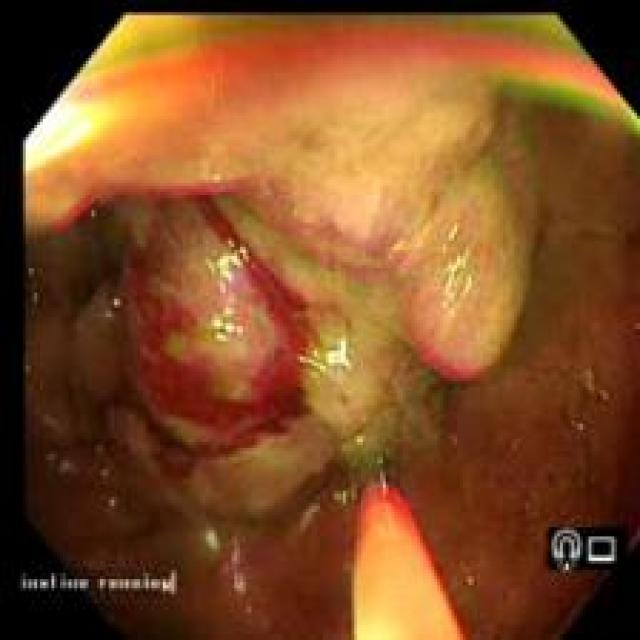blood: (128, 200, 324, 459)
color misalignment: (44, 174, 487, 385), (59, 16, 640, 132), (425, 87, 549, 343), (25, 575, 178, 596), (205, 530, 255, 588), (554, 532, 618, 575), (334, 488, 361, 509)
contrast: (35, 213, 143, 567)
instrument: (353, 453, 465, 638)
saturation: (27, 105, 114, 174)
specularity: (208, 242, 250, 282), (445, 250, 472, 308), (213, 322, 245, 343), (329, 343, 351, 369), (301, 361, 326, 374), (452, 227, 462, 242), (465, 279, 472, 298), (227, 311, 235, 316), (116, 300, 121, 306)
